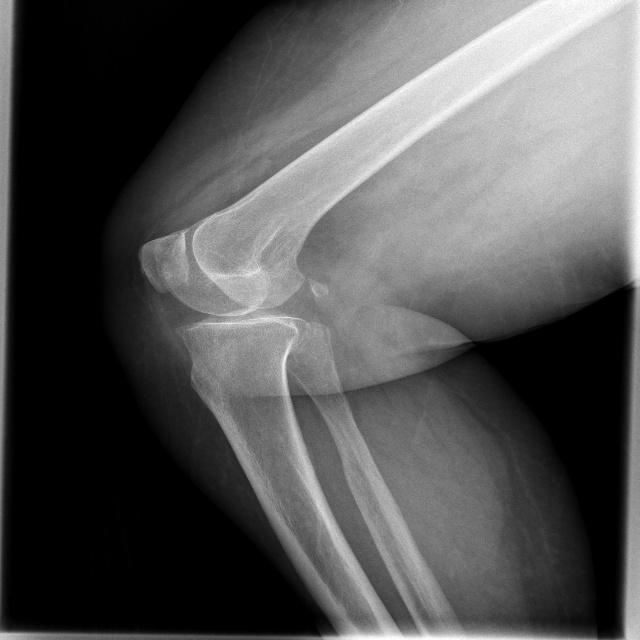Knee: (133, 227, 328, 384)
